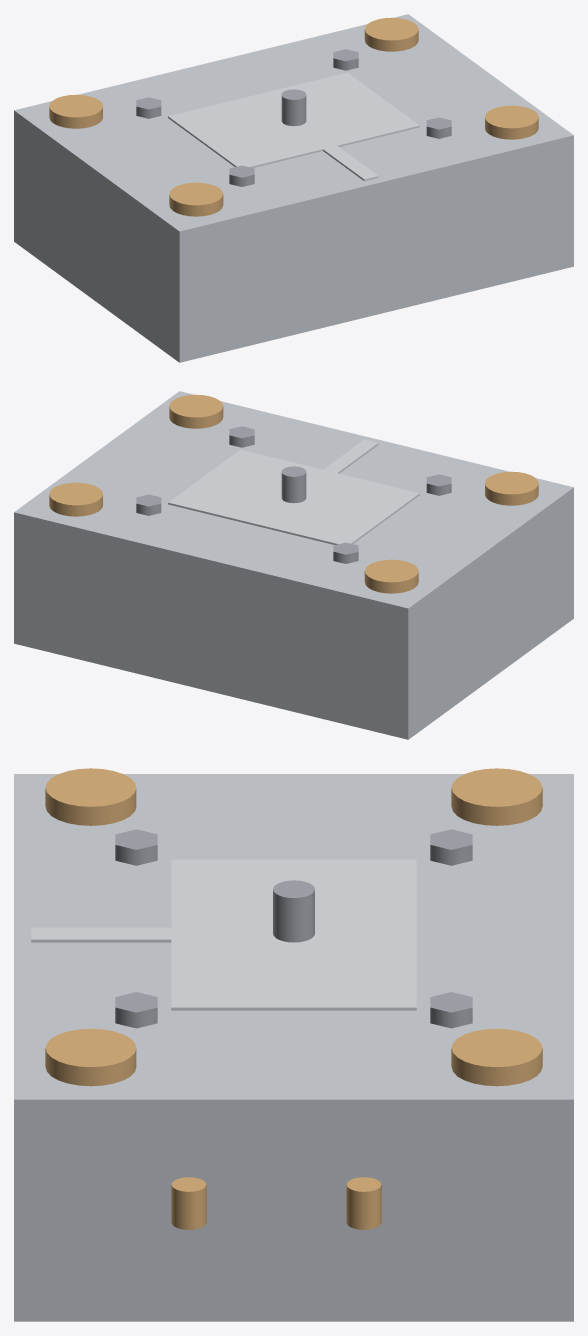
File: injection_mold.glb
3 views of the same model, one above another, from view 1: azimuth 30°, elevation 25°; view 2: azimuth 150°, elevation 25°; view 3: azimuth 270°, elevation 25° (orthographic). The views are drawn at different scales.
Visible parts, largest first — view 1: plate, cavity_main, bushing_1, bushing_2, bushing_0, bushing_3, runner, sprue, bolt_2, bolt_1, bolt_0, bolt_3; view 2: plate, cavity_main, bushing_3, bushing_0, bushing_2, bushing_1, runner, sprue, bolt_0, bolt_3, bolt_2, bolt_1; view 3: plate, cavity_main, bushing_1, bushing_3, bushing_0, bushing_2, sprue, runner, cool_0, cool_1, bolt_1, bolt_3 (+2 smaller).
Boxes of the visible parts, x1,y1,x2,y2 form: plate: (14,14,573,362); cavity_main: (168,72,419,167); bushing_1: (169,182,223,216); bushing_2: (364,17,418,51); bushing_0: (485,105,538,139); bushing_3: (49,94,102,128); runner: (278,109,378,181); sprue: (281,89,306,126); bolt_2: (333,49,358,70); bolt_1: (229,165,254,186); bolt_0: (426,117,451,138); bolt_3: (136,97,161,118); plate: (14,391,573,739); cavity_main: (168,449,419,544); bushing_3: (364,559,418,593); bushing_0: (169,394,223,428); bushing_2: (49,482,102,516); bushing_1: (485,471,538,505); runner: (271,439,378,510); sprue: (281,466,306,503); bolt_0: (229,426,254,447); bolt_3: (333,542,358,563); bolt_2: (136,494,161,515); bolt_1: (426,474,451,495); plate: (14,774,573,1321); cavity_main: (171,859,416,1010); bushing_1: (45,768,136,825); bushing_3: (451,768,542,825); bushing_0: (45,1028,136,1086); bushing_2: (451,1028,542,1086); sprue: (273,880,314,942); runner: (31,927,345,942); cool_0: (171,1177,206,1229); cool_1: (346,1177,381,1229); bolt_1: (115,829,157,865); bolt_3: (430,829,472,865).
Bounding box in the file's own units: 0.231 × 0.088 × 0.16.
